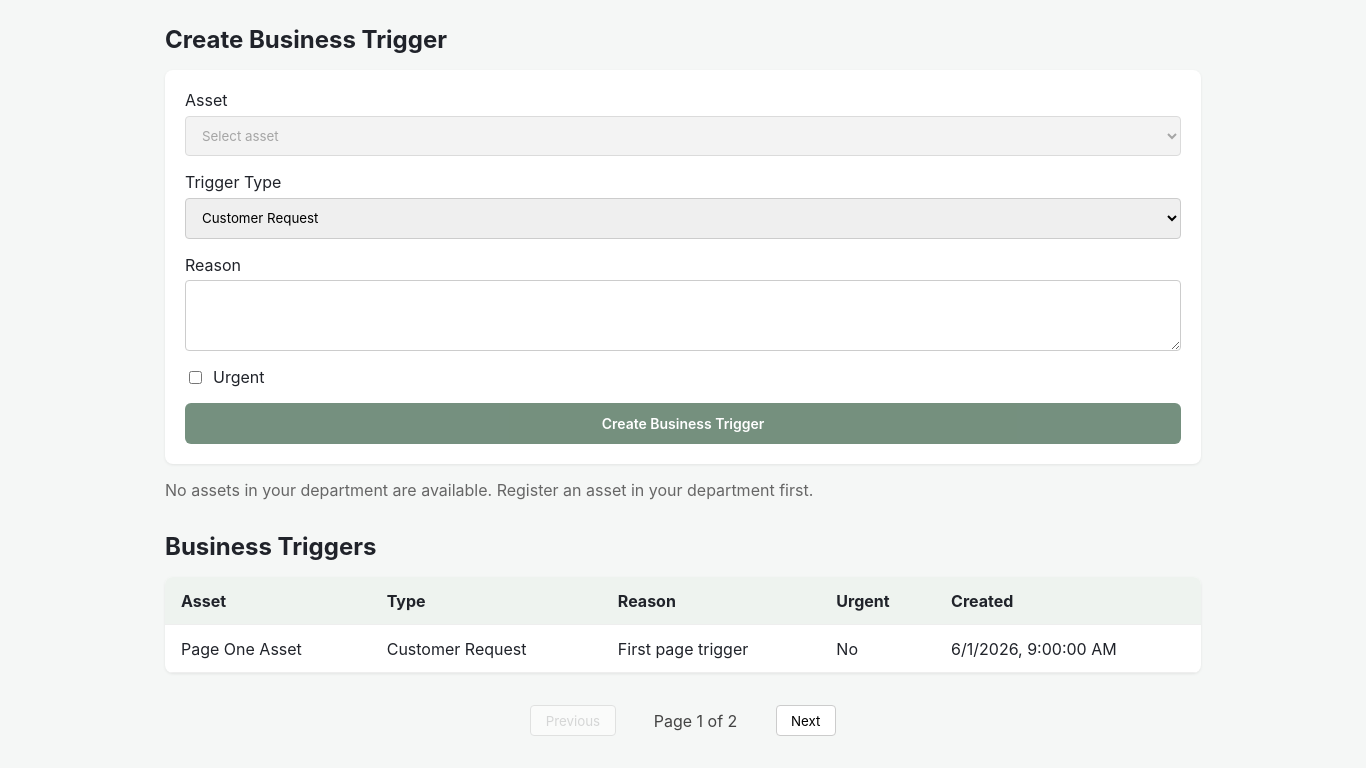
it: BusinessTriggersPage › loads the previous page when Previous is clicked
This screenshot has width=1366, height=768.
(page scrolled)
expect the text "First page trigger" is shown: met, box [602, 625, 820, 673]
Click the button with test id "pagination-next" at {"x": 806, "y": 721}, box [776, 705, 836, 736]
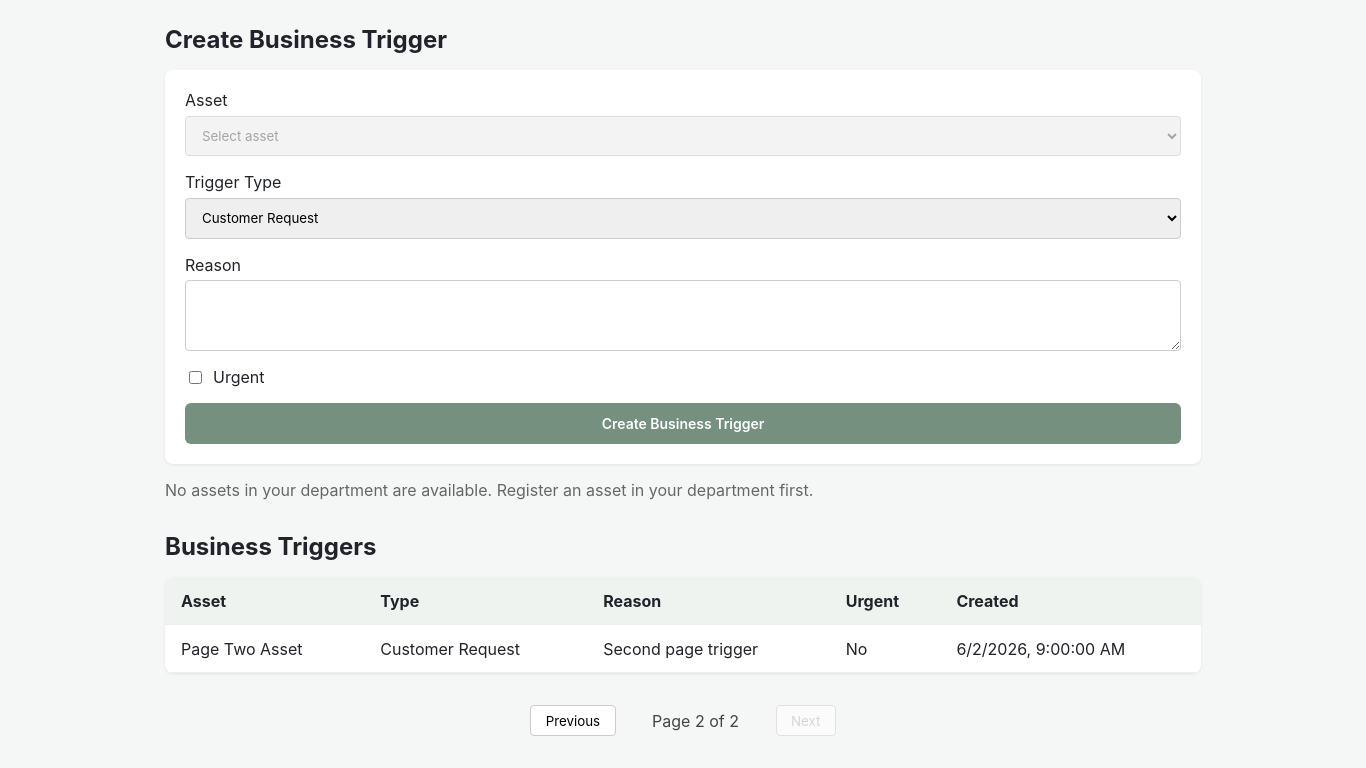
expect the text "Second page trigger" is shown: met, box [587, 625, 830, 673]
Click the button with test id "pagination-previous" at {"x": 573, "y": 721}, box [530, 705, 616, 736]
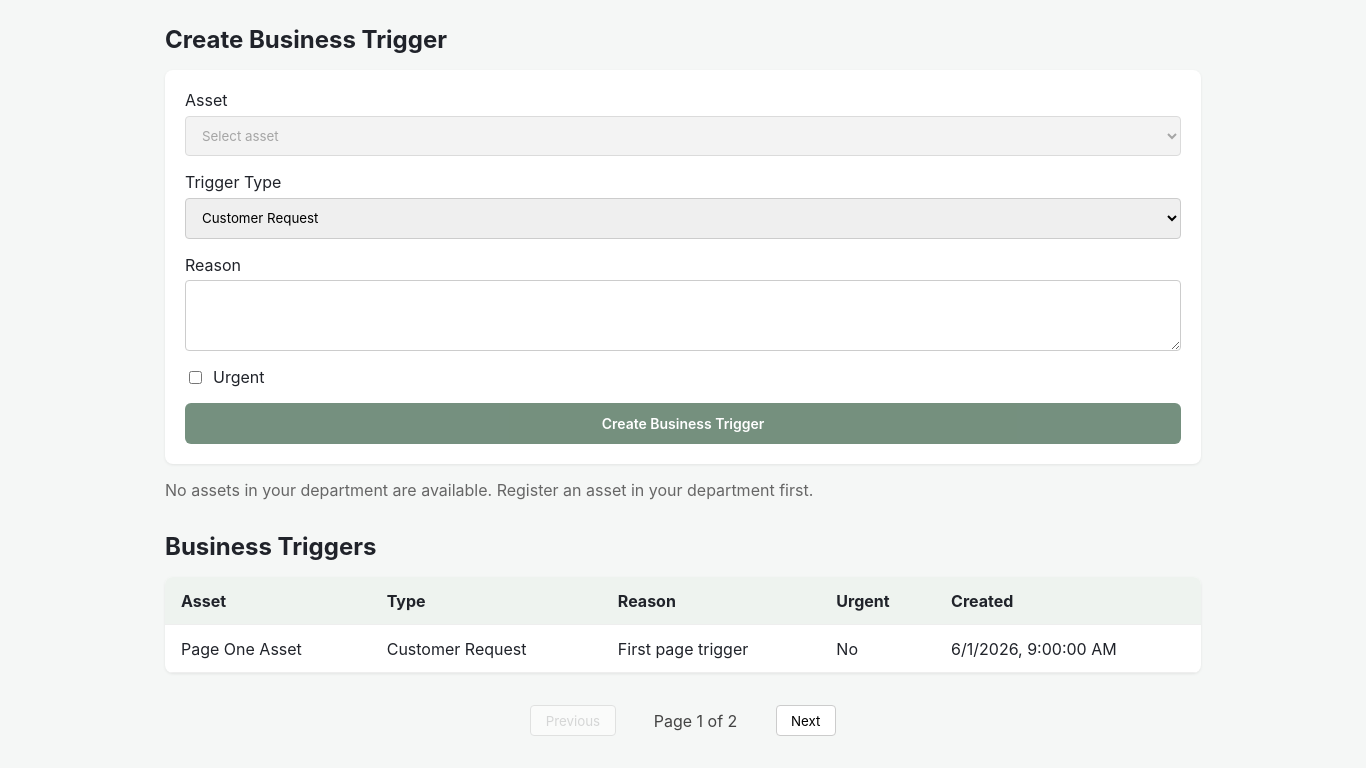
expect the text "First page trigger" is shown: met, box [602, 625, 820, 673]
